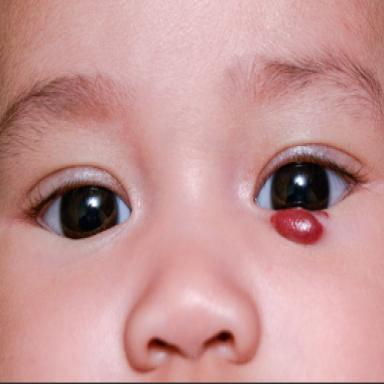Hemangiome: (270, 209, 323, 244)
